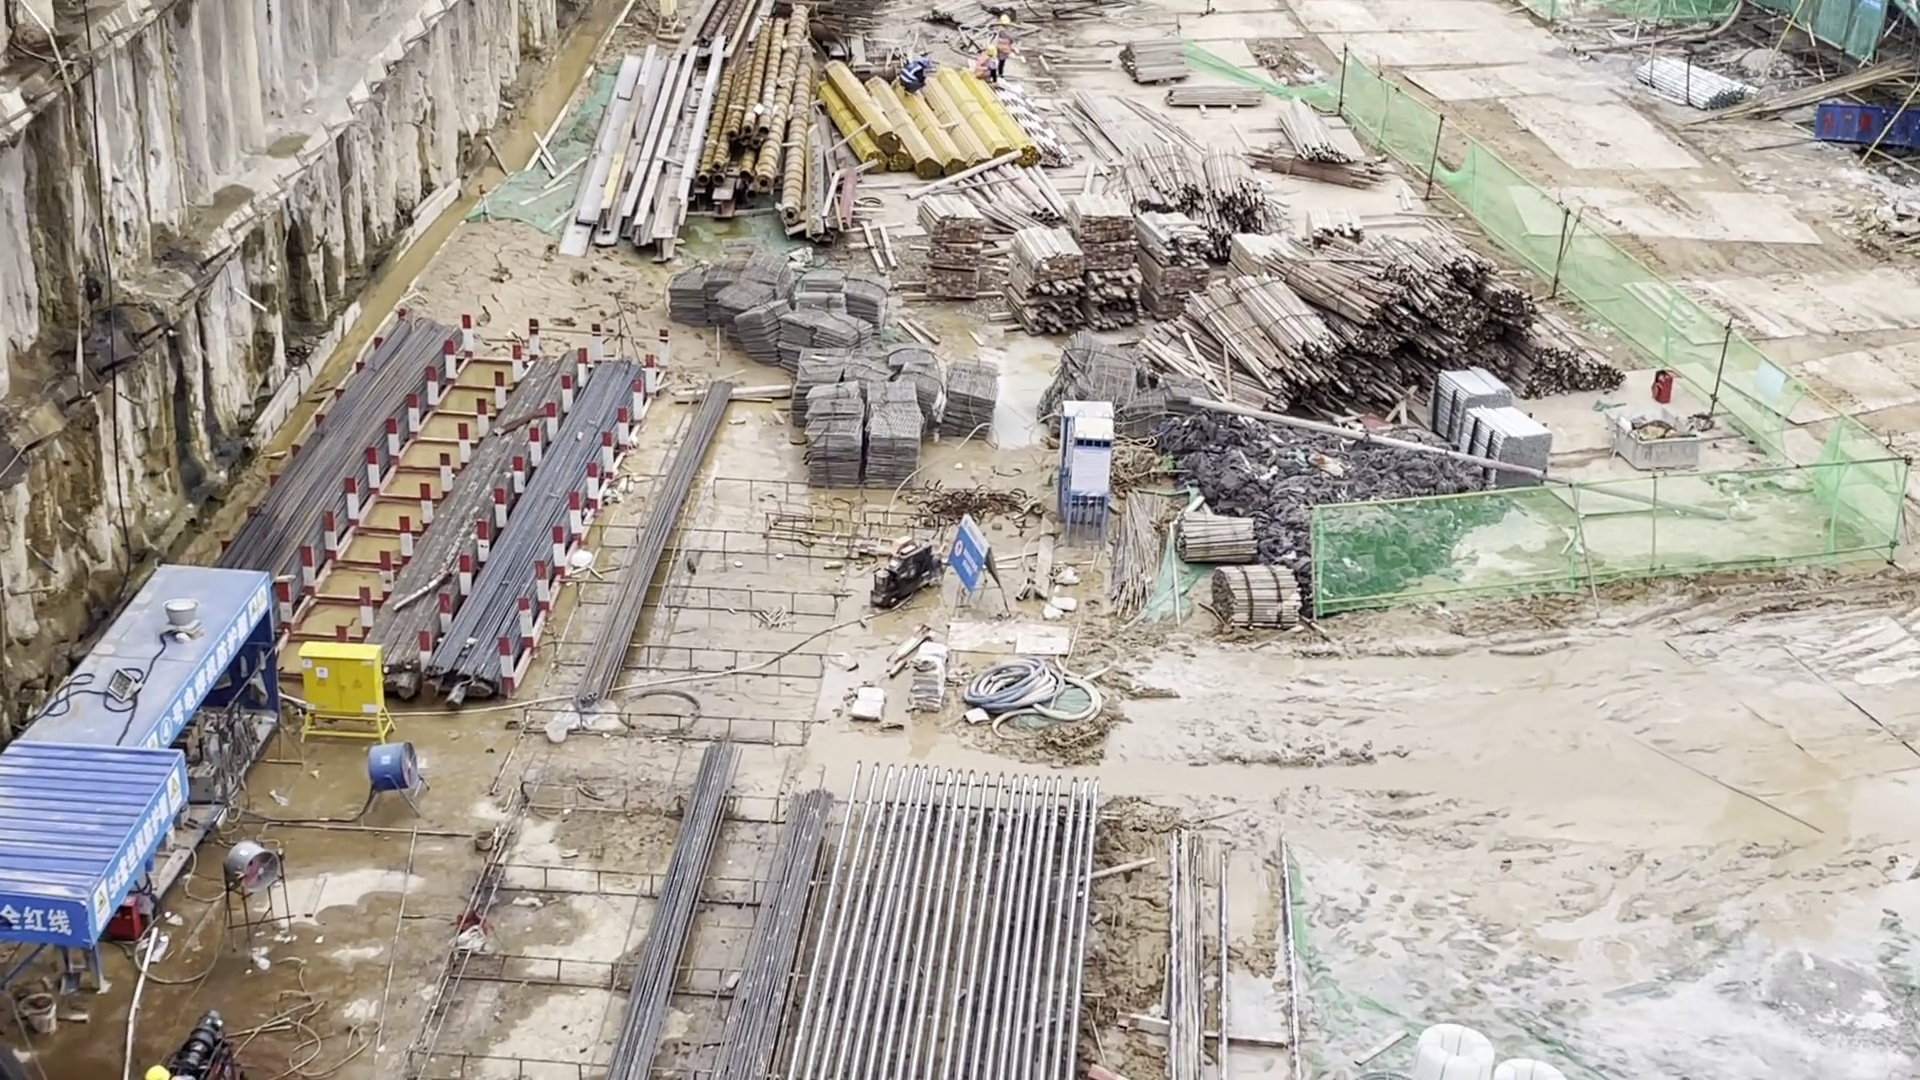brick: (1427, 364, 1551, 491)
ebox: (298, 635, 391, 751)
helmet: (138, 1055, 165, 1080), (918, 54, 934, 69), (1000, 17, 1011, 27), (985, 46, 996, 53)
hopper: (1601, 400, 1699, 476), (1813, 93, 1920, 152)
person: (900, 51, 933, 96), (973, 46, 999, 81), (999, 15, 1013, 69)
rebar: (319, 337, 685, 656), (596, 733, 839, 1080)
slogan: (162, 591, 273, 744), (98, 767, 193, 923), (2, 900, 74, 947)
vest: (900, 60, 924, 81), (975, 55, 994, 79), (999, 29, 1011, 55)
wood: (993, 181, 1550, 353)
